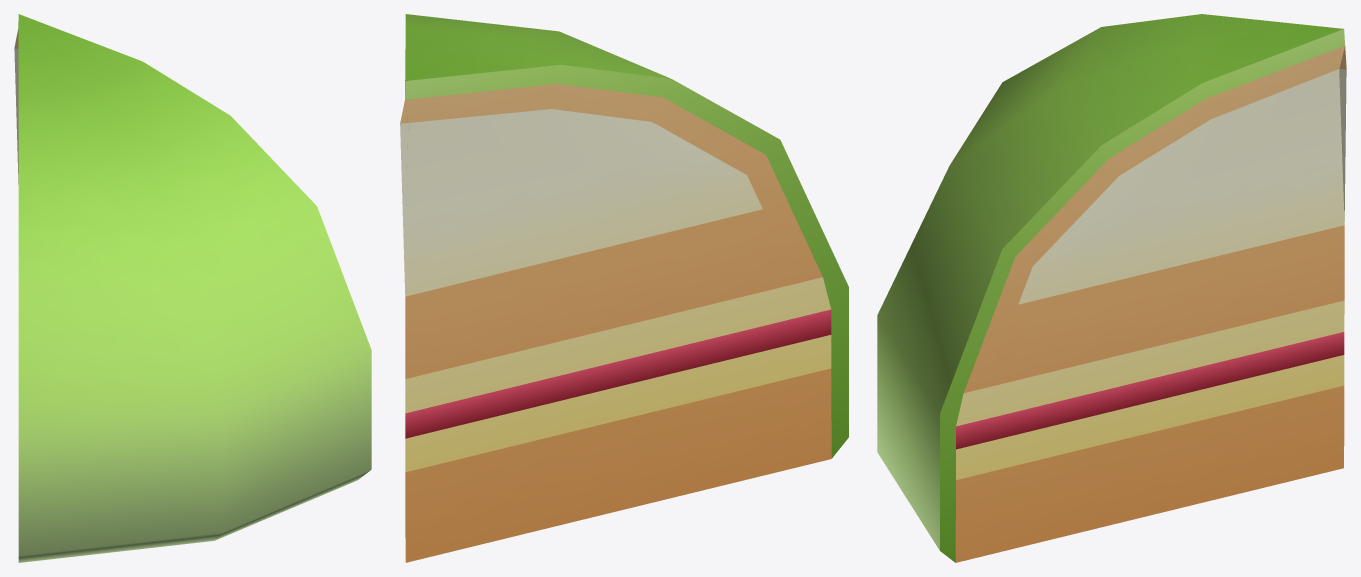
The model's file is m_PrincessCake02_Slice.fbx.
3 views of the same model, side by side, from view 1: azimuth 30°, elevation 25°; view 2: azimuth 150°, elevation 25°; view 3: azimuth 270°, elevation 25° (orthographic). The views are drawn at different scales.
Visible parts, largest first — view 1: m_PrincessCake02_Slice; view 2: m_PrincessCake02_Slice; view 3: m_PrincessCake02_Slice.
Part boxes in pixels (x1,y1,x2,y2): m_PrincessCake02_Slice: (14,14,371,562); m_PrincessCake02_Slice: (400,14,848,562); m_PrincessCake02_Slice: (877,14,1346,562).
Bounding box in the file's own units: 14 × 14.54 × 14.07.
